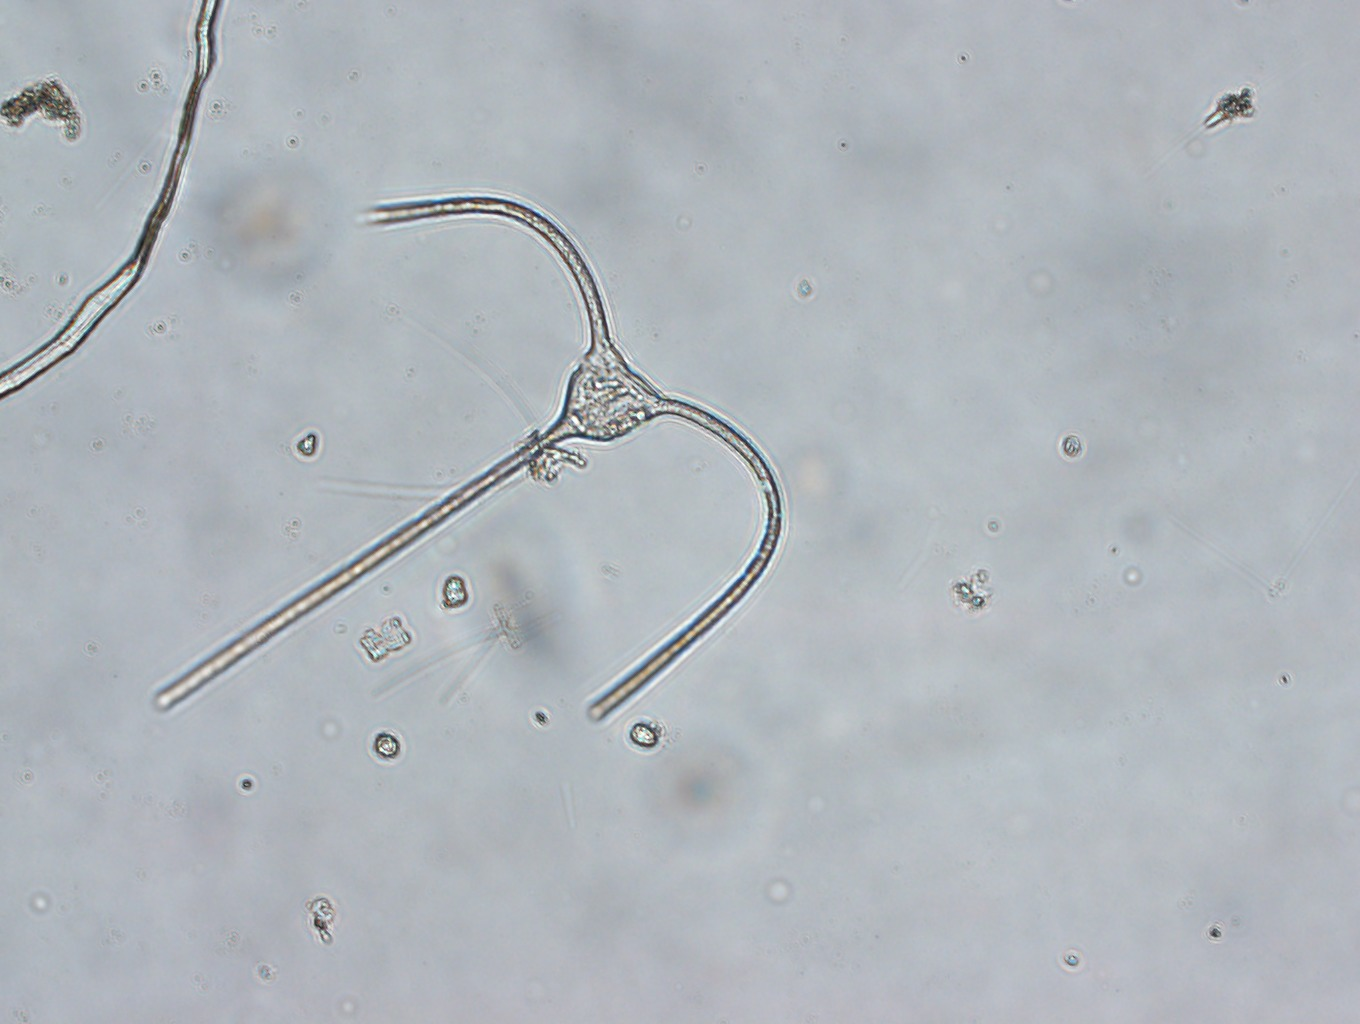ceratium trichoceros: (147, 191, 788, 723)
